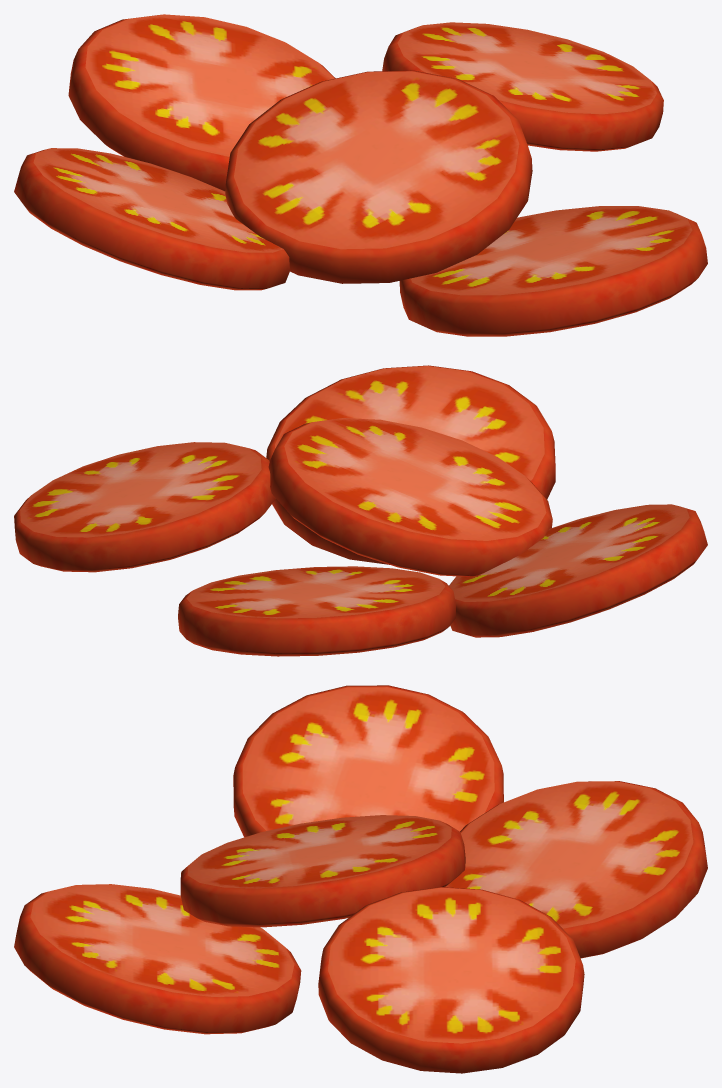
Rendered from m_plated_tomato_01.fbx.
3 renders of one model, top to bottom at view 1: azimuth 30°, elevation 25°; view 2: azimuth 150°, elevation 25°; view 3: azimuth 270°, elevation 25°, orthographic. The views are drawn at different scales.
Visible parts, largest first — view 1: m_plated_tomato_01; view 2: m_plated_tomato_01; view 3: m_plated_tomato_01.
Boxes of the visible parts, x1=… form: m_plated_tomato_01: x1=14, y1=14, x2=707, y2=336; m_plated_tomato_01: x1=14, y1=365, x2=707, y2=656; m_plated_tomato_01: x1=14, y1=685, x2=707, y2=1073.
Size of the model in its own units: 69.26 by 15.25 by 67.94.
Materials: 1 (1 with a texture image).
